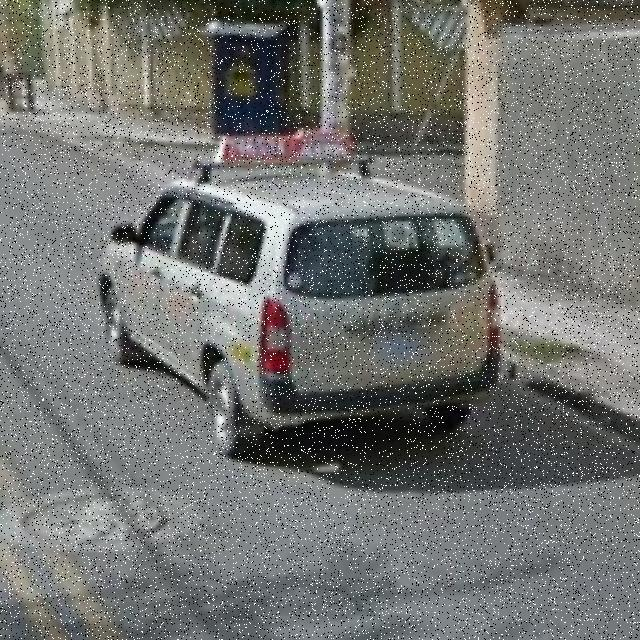cars: (91, 148, 513, 447)
